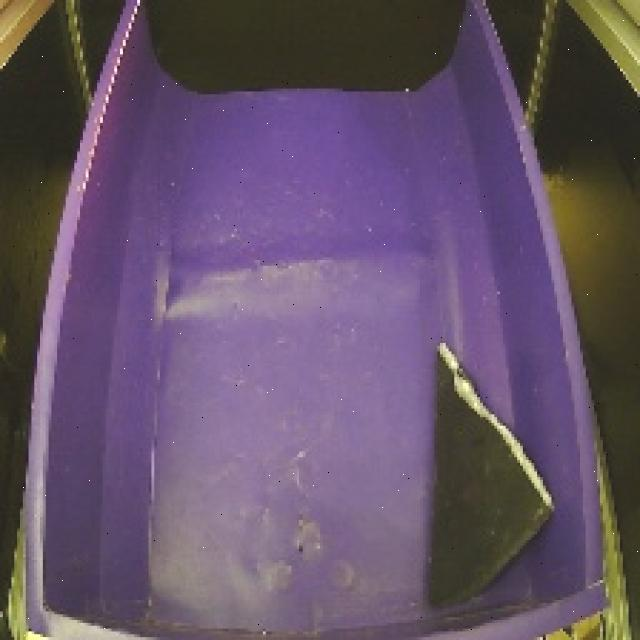china: (418, 329, 566, 622)
